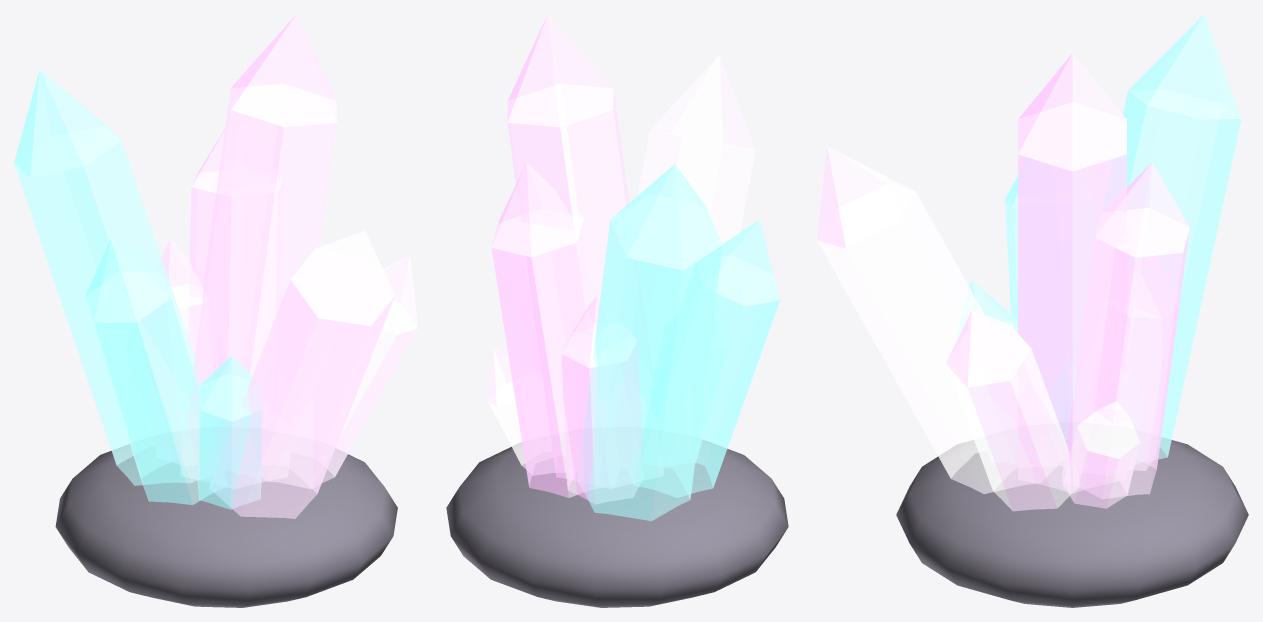
File: E12_Crystal_Cluster.glb
3 renders of one model, left to right at view 1: azimuth 30°, elevation 25°; view 2: azimuth 150°, elevation 25°; view 3: azimuth 270°, elevation 25°, orthographic. The views are drawn at different scales.
Parts seen in each view (by area): view 1: E12_Crystal_Cluster_Mesh; view 2: E12_Crystal_Cluster_Mesh; view 3: E12_Crystal_Cluster_Mesh.
Part boxes in pixels (left/top/right/bottom): E12_Crystal_Cluster_Mesh: left=14, top=14, right=417, bottom=607; E12_Crystal_Cluster_Mesh: left=446, top=14, right=788, bottom=607; E12_Crystal_Cluster_Mesh: left=817, top=14, right=1248, bottom=607.
Size of the model in its own units: 1.41 by 2.43 by 1.71.
